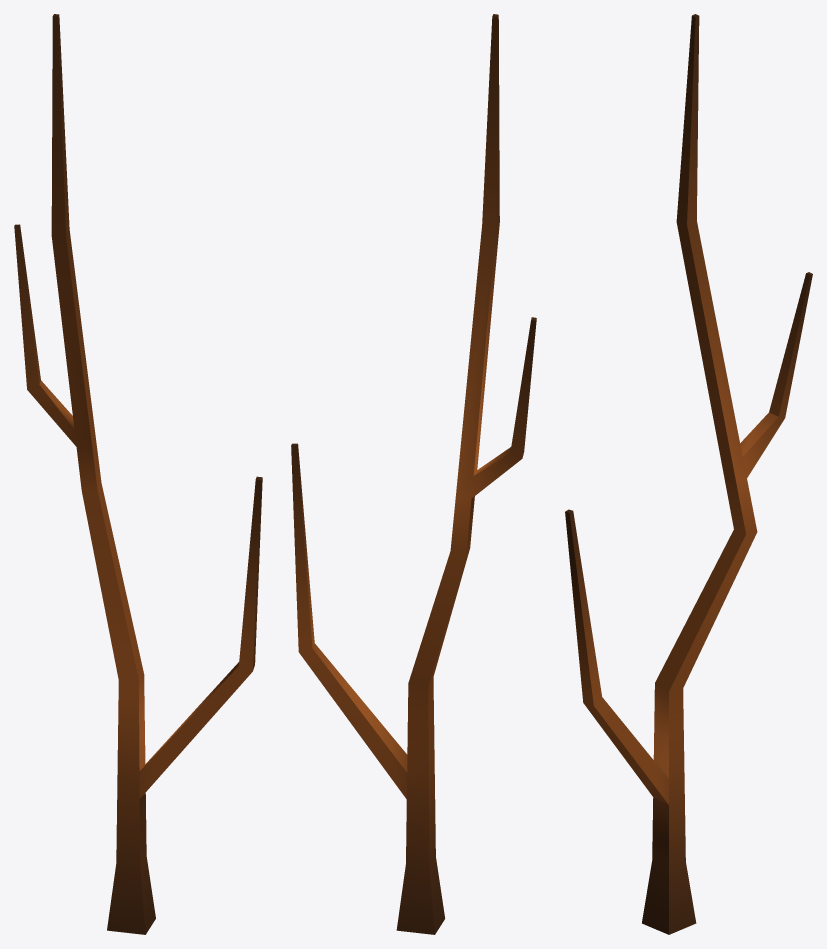
File: TreeDead_Sml-02.FBX
3 renders of one model, left to right at view 1: azimuth 30°, elevation 25°; view 2: azimuth 210°, elevation 25°; view 3: azimuth 270°, elevation 25°, orthographic. The views are drawn at different scales.
Parts seen in each view (by area): view 1: TreeDead_Sml-02; view 2: TreeDead_Sml-02; view 3: TreeDead_Sml-02.
Boxes of the visible parts, x1,y1,x2,y2 form: TreeDead_Sml-02: (14, 14, 262, 934); TreeDead_Sml-02: (291, 14, 536, 934); TreeDead_Sml-02: (565, 14, 812, 934).
Bounding box in the file's own units: 18.83 × 106 × 27.11.
Materials: 1 (1 with a texture image).
